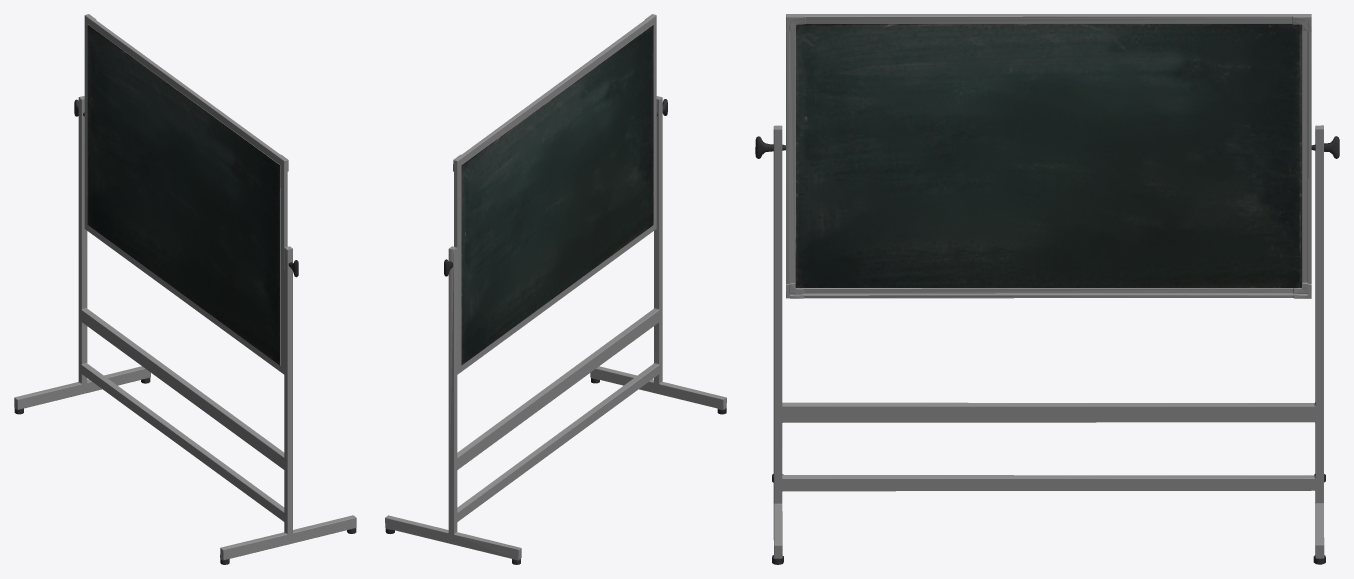
File: Board.FBX
3 views of the same model, side by side, from view 1: azimuth 30°, elevation 25°; view 2: azimuth 150°, elevation 25°; view 3: azimuth 270°, elevation 25° (orthographic). The views are drawn at different scales.
Visible parts, largest first — view 1: Board; view 2: Board; view 3: Board.
Part boxes in pixels (<box>): Board: <box>14,14,356,564</box>; Board: <box>385,14,726,564</box>; Board: <box>755,14,1339,564</box>.
Bounding box in the file's own units: 841 × 2397 × 2295.
2 materials, 1 textured.
